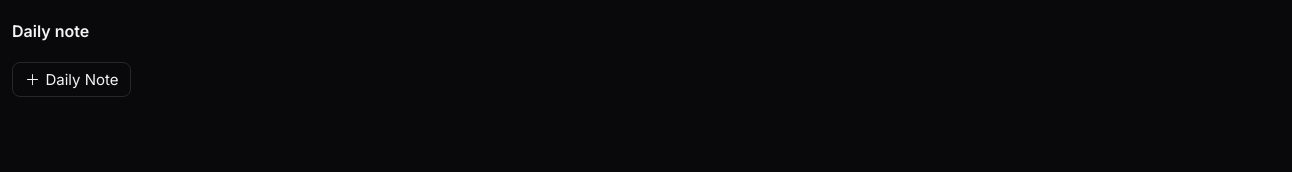
Test: DailyNoteSlot › test + Daily Note creates for the day and shows the editor; 409 opens the existing note
Later steps or results of the test are not shown.
Expected: the heading "Daily note" is shown, x1=12 y1=19 x2=89 y2=43
Click the button "Daily Note": (72, 80) x1=12 y1=62 x2=131 y2=97
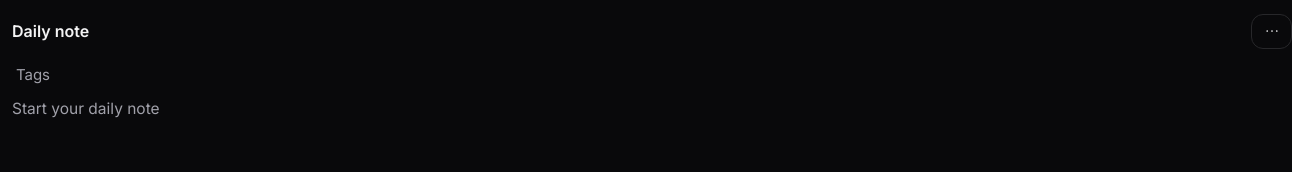
Result: the element showing "Tags Start your daily note" is shown at x1=12 y1=64 x2=160 y2=118
Result: the text with test id "inline-placeholder" reads "Start your daily note" at x1=12 y1=98 x2=160 y2=118
Result: the button named "More" is shown at x1=1256 y1=16 x2=1287 y2=47
